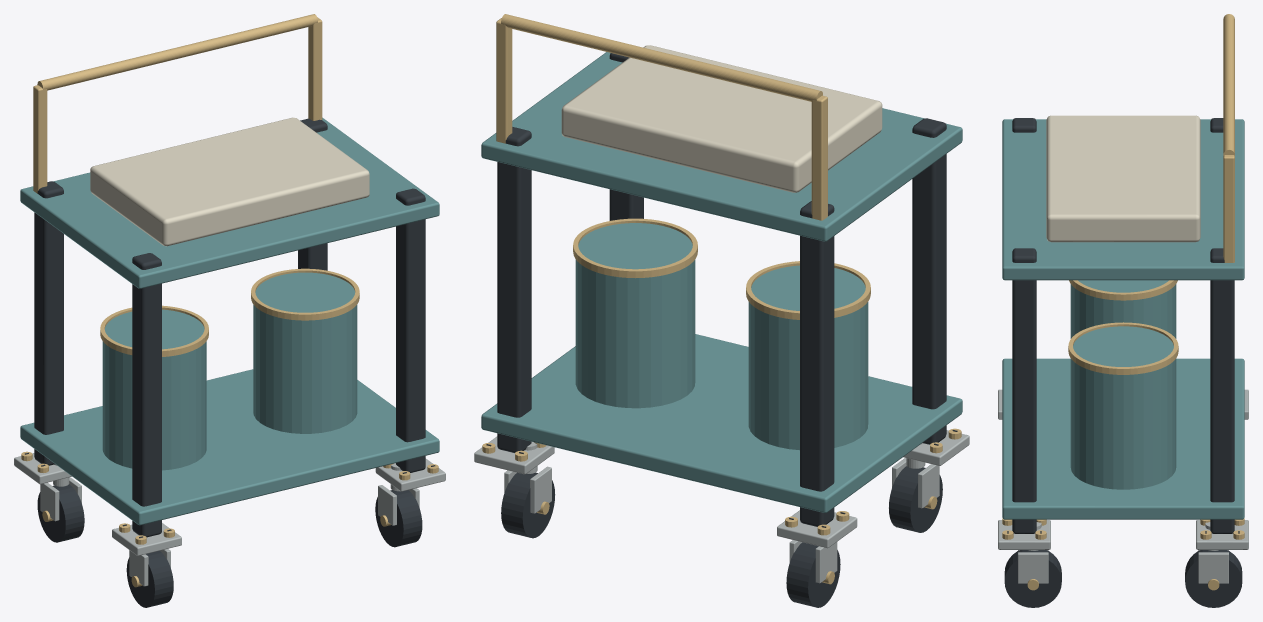
The model's file is abandoned-cinema-and-projection-booth-abandoned-cinema-77daa970__29729.glb.
3 views of the same model, side by side, from view 1: azimuth 30°, elevation 25°; view 2: azimuth 150°, elevation 25°; view 3: azimuth 270°, elevation 25° (orthographic). The views are drawn at different scales.
Parts seen in each view (by area): view 1: abandoned-cinema-and-projection-booth-cleaning-cart; view 2: abandoned-cinema-and-projection-booth-cleaning-cart; view 3: abandoned-cinema-and-projection-booth-cleaning-cart.
Boxes of the visible parts, x1=… form: abandoned-cinema-and-projection-booth-cleaning-cart: x1=14, y1=14, x2=445, y2=607; abandoned-cinema-and-projection-booth-cleaning-cart: x1=474, y1=14, x2=969, y2=607; abandoned-cinema-and-projection-booth-cleaning-cart: x1=998, y1=14, x2=1248, y2=607.
Size of the model in its own units: 0.82 by 1.15 by 0.57.
